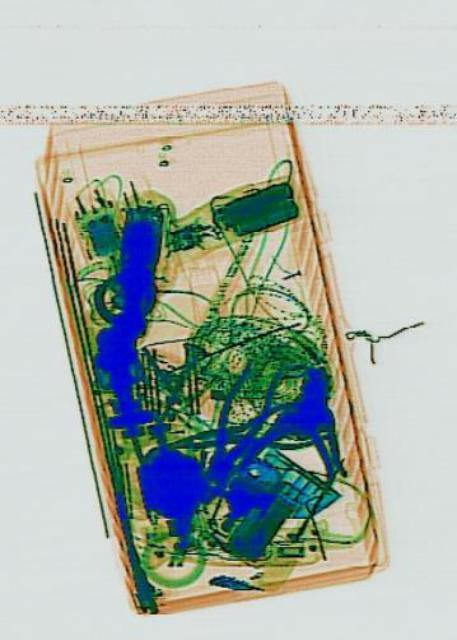Pliers: (191, 340, 284, 498), (159, 394, 330, 468)
